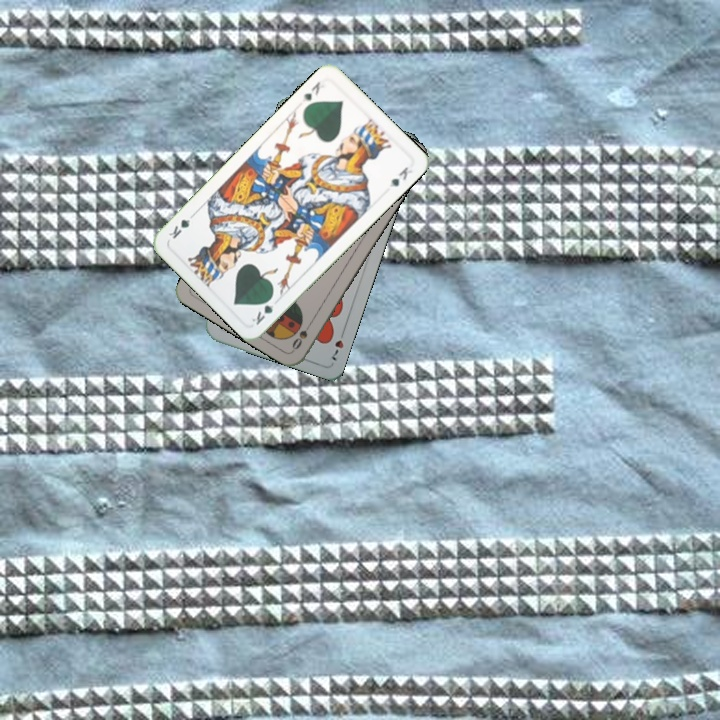GK: (248, 292, 282, 328), (298, 77, 323, 105)
H7: (327, 325, 348, 364)
SO: (288, 316, 316, 353)
